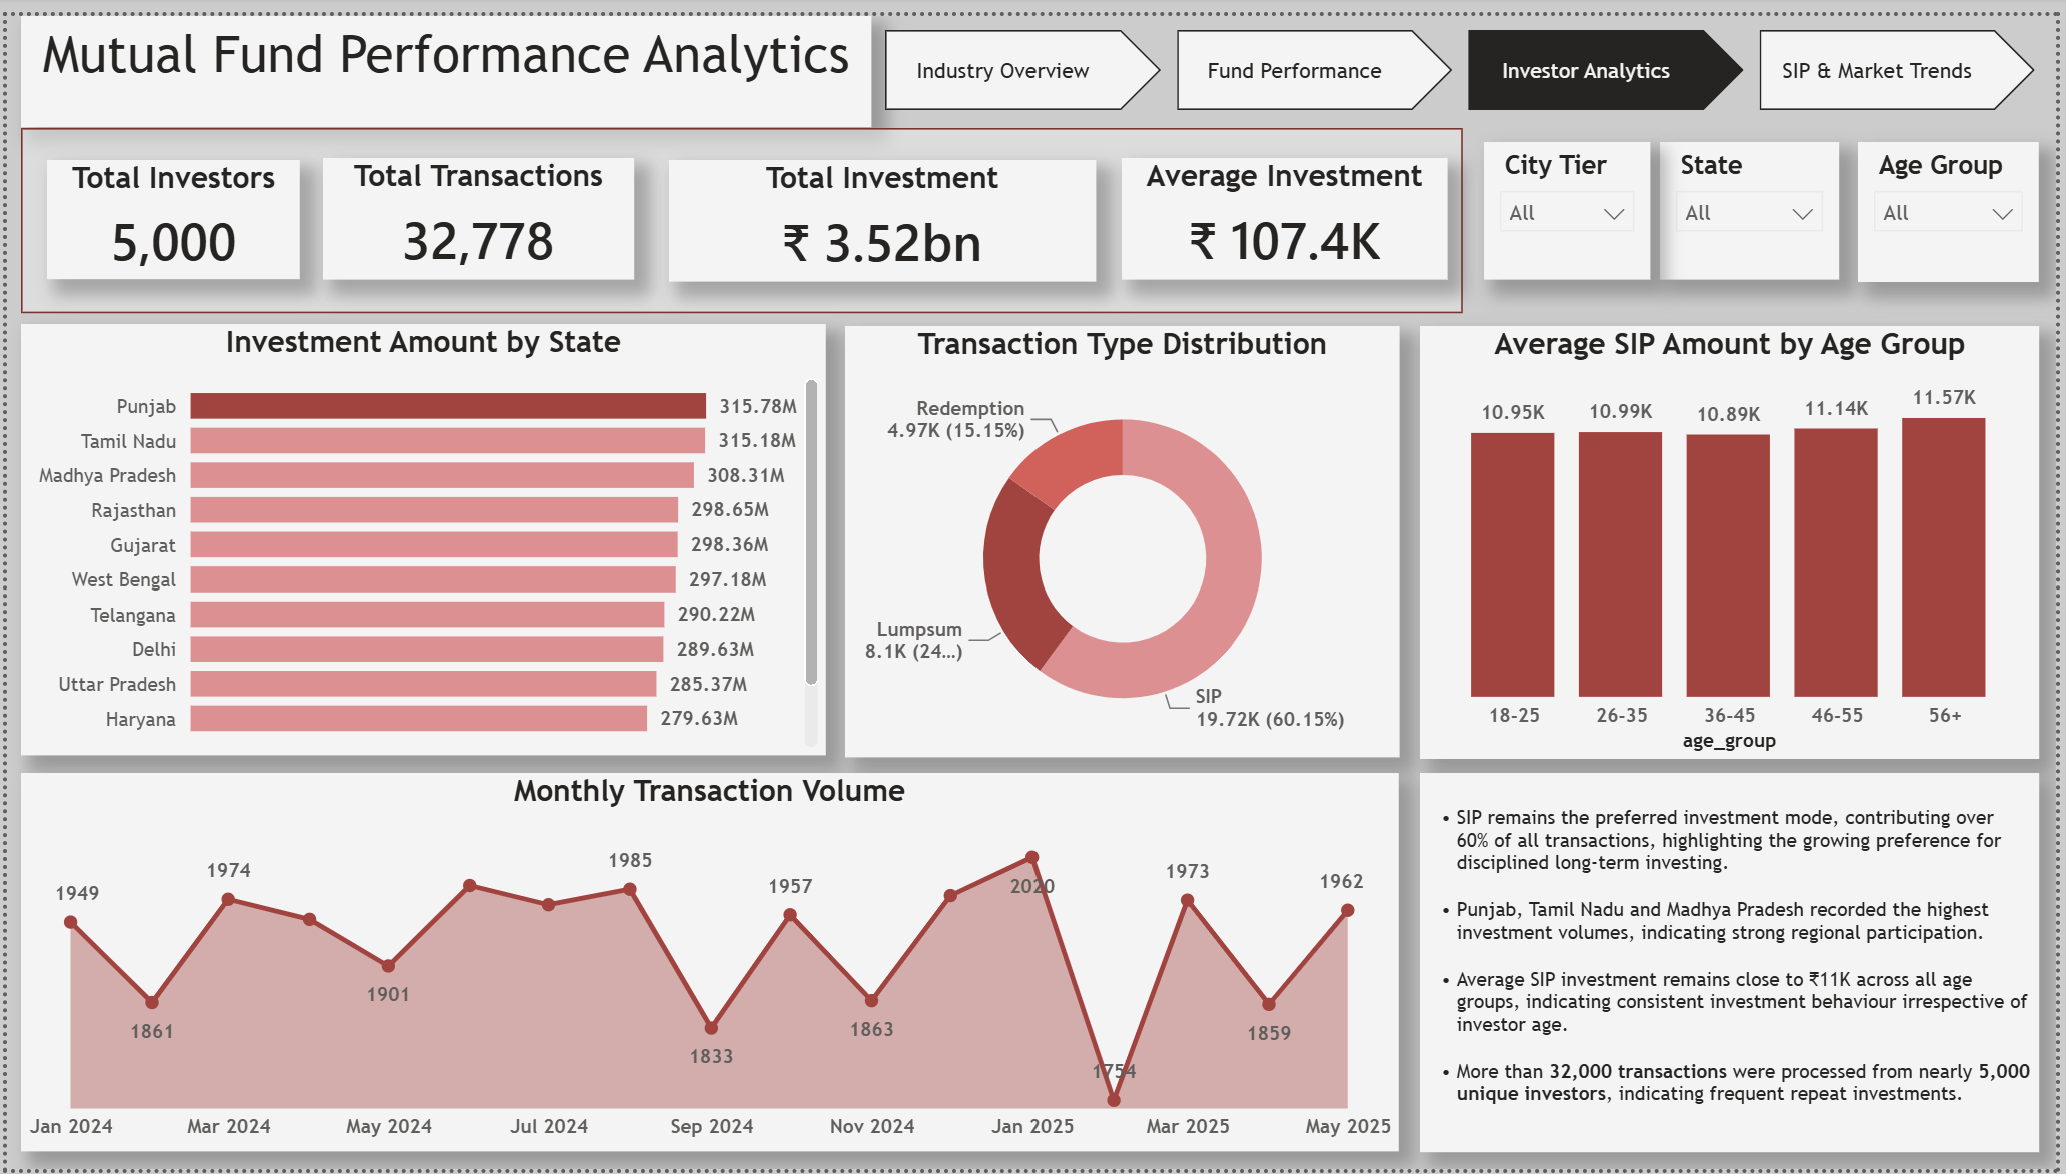

The dashboard page shown, as its layout file describes it:
{"tool":"powerbi","page":{"name":" Investor Analytics","canvas":[1280,720],"ordinal":2},"visuals":[{"type":"textbox","box":[9,0,531.3,69.5],"z":0},{"type":"shape","box":[9,69.5,900.5,115.8],"z":1000},{"type":"cardVisual","title":"Total Investors","fields":{"Data":["DAX_Measures.Total Investors"]},"box":[24.4,90.1,158.2,74.6],"z":2000},{"type":"cardVisual","title":"Total Transactions","fields":{"Data":["DAX_Measures.Total Transactions"]},"box":[198.1,88.8,194.3,75.9],"z":3000},{"type":"cardVisual","title":"Total Investment","fields":{"Data":["DAX_Measures.Total Investment"]},"box":[414.2,90.1,266.3,75.9],"z":4000},{"type":"cardVisual","title":"Average Investment","fields":{"Data":["DAX_Measures.Average Investment"]},"box":[696,88.8,203.3,75.9],"z":5000},{"type":"slicer","fields":{"Values":["08_investor_transactions.state"]},"box":[1033,78.5,111.9,86.2],"z":6000},{"type":"pageNavigator","box":[549.3,9,720.4,50.2],"z":7000},{"type":"slicer","fields":{"Values":["08_investor_transactions.age_group"]},"box":[1156.5,78.5,113.2,87.5],"z":8000},{"type":"slicer","fields":{"Values":["08_investor_transactions.city_tier"]},"box":[922.4,78.5,104.2,86.2],"z":9000},{"type":"clusteredBarChart","title":"Investment Amount by State","fields":{"Category":["08_investor_transactions.state"],"Y":["Sum(08_investor_transactions.amount_inr)"]},"box":[9,193,503,268.9],"z":10000},{"type":"donutChart","title":"Transaction Type Distribution","fields":{"Category":["08_investor_transactions.transaction_type"],"Y":["CountNonNull(08_investor_transactions.transaction_type)"]},"box":[523.6,194.3,346.1,268.9],"z":11000},{"type":"clusteredColumnChart","title":"Average SIP Amount by Age Group","fields":{"Category":["08_investor_transactions.age_group"],"Y":["DAX_Measures.Average SIP Amount"]},"box":[882.5,194.3,387.2,270.2],"z":12000},{"type":"lineChart","title":"Monthly Transaction Volume","fields":{"Y":["CountNonNull(08_investor_transactions.transaction_type)"],"Category":["08_investor_transactions.transaction_date.Variation.Date Hierarchy.Year","08_investor_transactions.transaction_date.Variation.Date Hierarchy.Month","08_investor_transactions.transaction_date.Variation.Date Hierarchy.Day"]},"box":[9,472.1,860.6,236.7],"z":13000},{"type":"textbox","box":[882,472,387,237],"z":14000}]}

Visuals, with their boxes in screenshot pixels (x1, y1, x2, y2), scaled from the page's 1280x720 canvas onto the 2066x1174 screenshot:
textbox: <bbox>15, 0, 872, 113</bbox>
shape: <bbox>15, 113, 1468, 302</bbox>
"Total Investors" cardVisual: <bbox>39, 147, 295, 269</bbox>
"Total Transactions" cardVisual: <bbox>320, 145, 633, 269</bbox>
"Total Investment" cardVisual: <bbox>669, 147, 1098, 271</bbox>
"Average Investment" cardVisual: <bbox>1123, 145, 1452, 269</bbox>
slicer - 08_investor_transactions.state: <bbox>1667, 128, 1848, 269</bbox>
pageNavigator: <bbox>887, 15, 2049, 97</bbox>
slicer - 08_investor_transactions.age_group: <bbox>1867, 128, 2049, 271</bbox>
slicer - 08_investor_transactions.city_tier: <bbox>1489, 128, 1657, 269</bbox>
"Investment Amount by State" clusteredBarChart: <bbox>15, 315, 826, 753</bbox>
"Transaction Type Distribution" donutChart: <bbox>845, 317, 1404, 755</bbox>
"Average SIP Amount by Age Group" clusteredColumnChart: <bbox>1424, 317, 2049, 757</bbox>
"Monthly Transaction Volume" lineChart: <bbox>15, 770, 1404, 1156</bbox>
textbox: <bbox>1424, 770, 2048, 1156</bbox>
